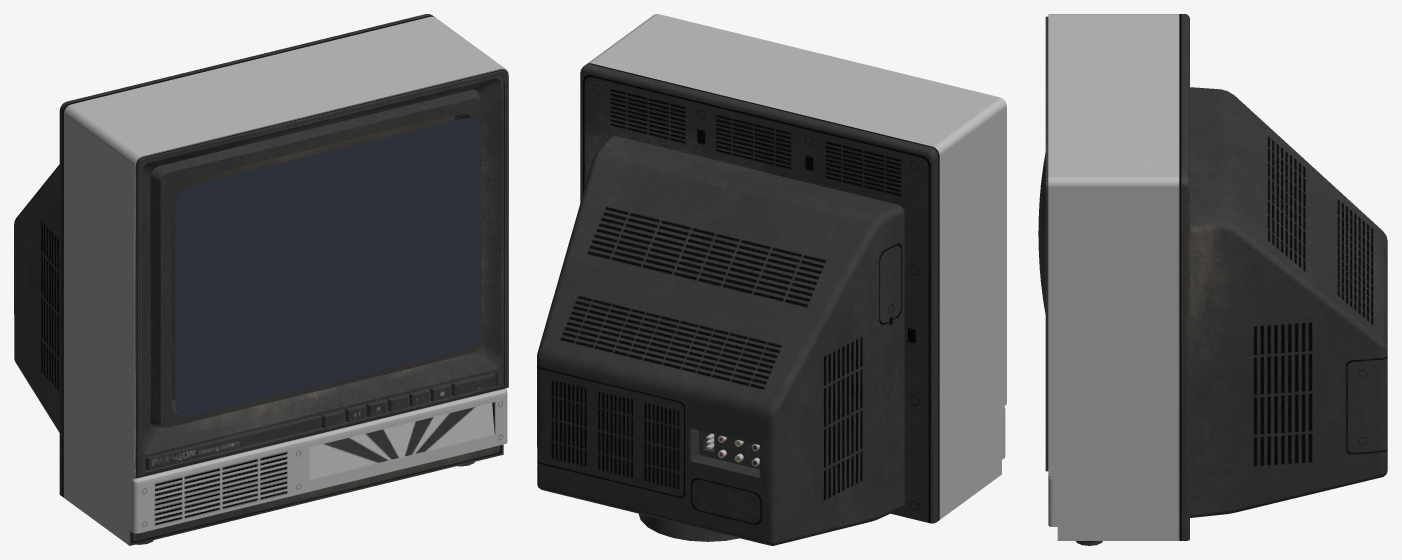
Rendered from tv_crt_silver_ph.glb.
3 views of the same model, side by side, from view 1: azimuth 30°, elevation 25°; view 2: azimuth 150°, elevation 25°; view 3: azimuth 270°, elevation 25° (orthographic). The views are drawn at different scales.
Parts seen in each view (by area): view 1: television_02, ScreenSurface; view 2: television_02; view 3: television_02.
Part boxes in pixels (x1,y1,x2,y2): television_02: (14,14,508,545); ScreenSurface: (175,117,480,416); television_02: (537,14,1006,545); television_02: (1038,14,1387,545).
Bounding box in the file's own units: 0.3997 × 0.4114 × 0.3533.
Materials: 2 (1 with a texture image).
